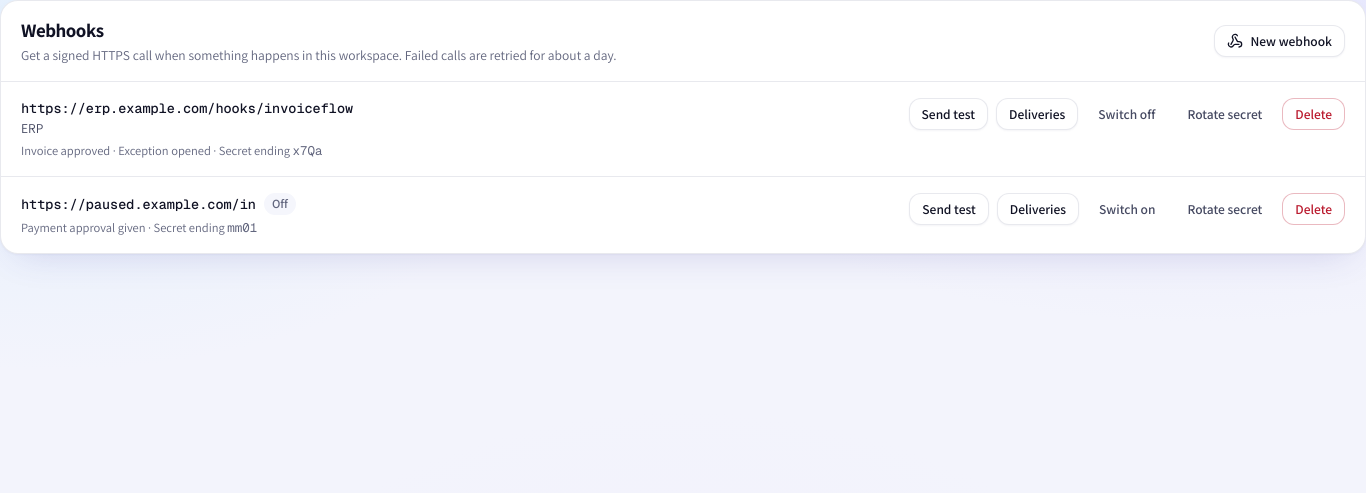
webhooks › asks before rotating the secret and shows the new one once
The image size is (1366, 493).
Click the 1st button "Rotate secret". click: click(1225, 114)
box: [1176,98,1274,130]
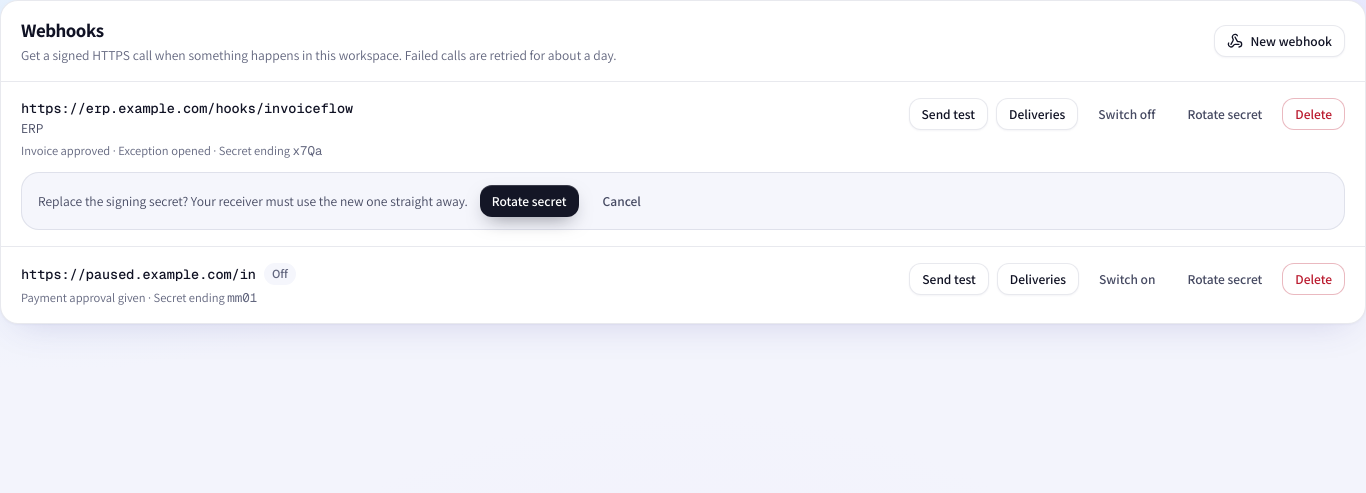
Click the 2nd button "Rotate secret". click: click(529, 201)
box: [480,185,579,217]
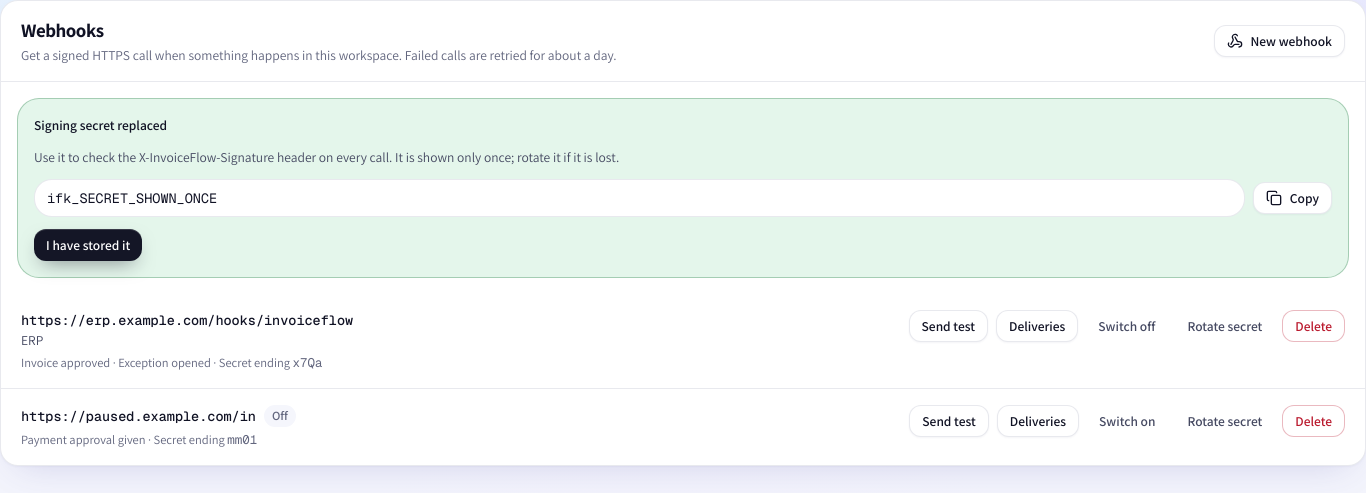
Check: the text "Signing secret replaced" is shown, box [34,116,167,134]
